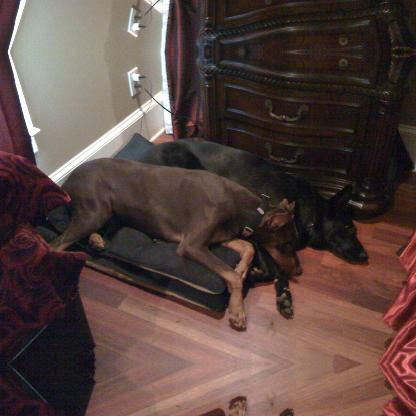Dog: (47, 156, 303, 335), (137, 134, 371, 319)
